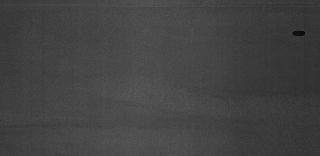punching hole: (290, 29, 308, 37)
welding line: (2, 2, 318, 10)
